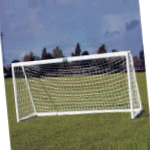goals: (9, 50, 145, 124)
